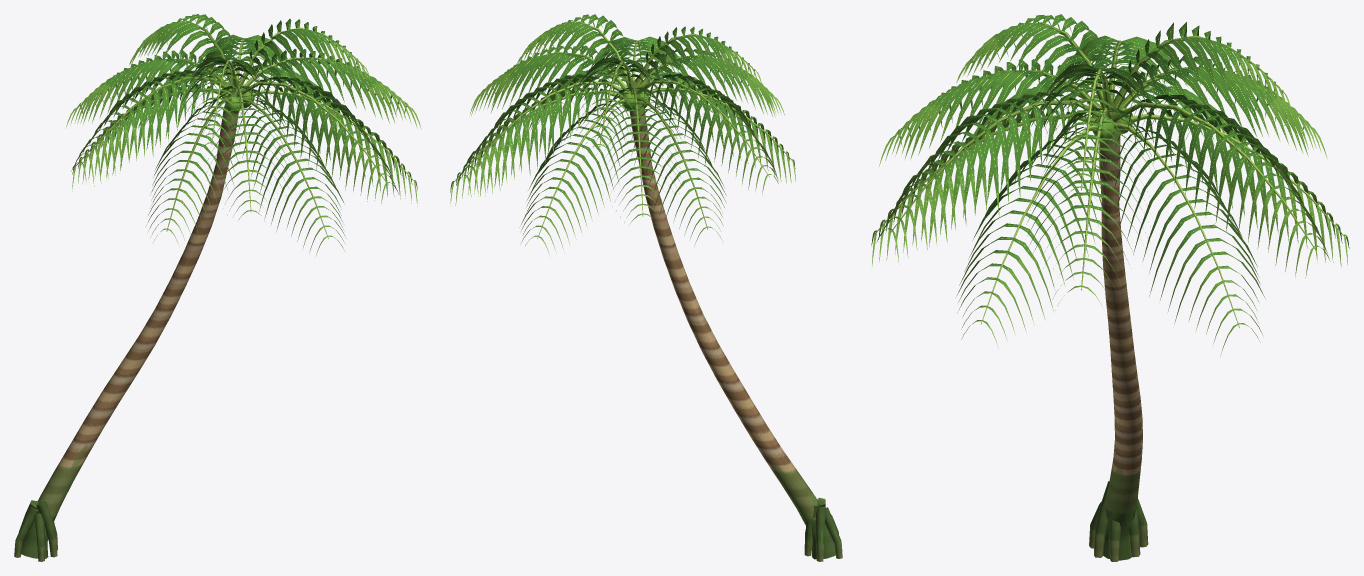
3 views of the same model, side by side, from view 1: azimuth 30°, elevation 25°; view 2: azimuth 150°, elevation 25°; view 3: azimuth 270°, elevation 25° (orthographic). The views are drawn at different scales.
Visible parts, largest first — view 1: Mesh_PalmFronds, Mesh_PalmTrunk; view 2: Mesh_PalmFronds, Mesh_PalmTrunk; view 3: Mesh_PalmFronds, Mesh_PalmTrunk.
Boxes of the visible parts, box(x1,y1,x2,y2) form: Mesh_PalmFronds: box(66, 14, 421, 255); Mesh_PalmTrunk: box(14, 80, 254, 561); Mesh_PalmFronds: box(450, 14, 795, 254); Mesh_PalmTrunk: box(619, 80, 842, 561); Mesh_PalmFronds: box(871, 14, 1349, 355); Mesh_PalmTrunk: box(1089, 98, 1148, 561).
Size of the model in its own units: 5.53 by 6.56 by 4.39.
Materials: 2 (2 with a texture image).
